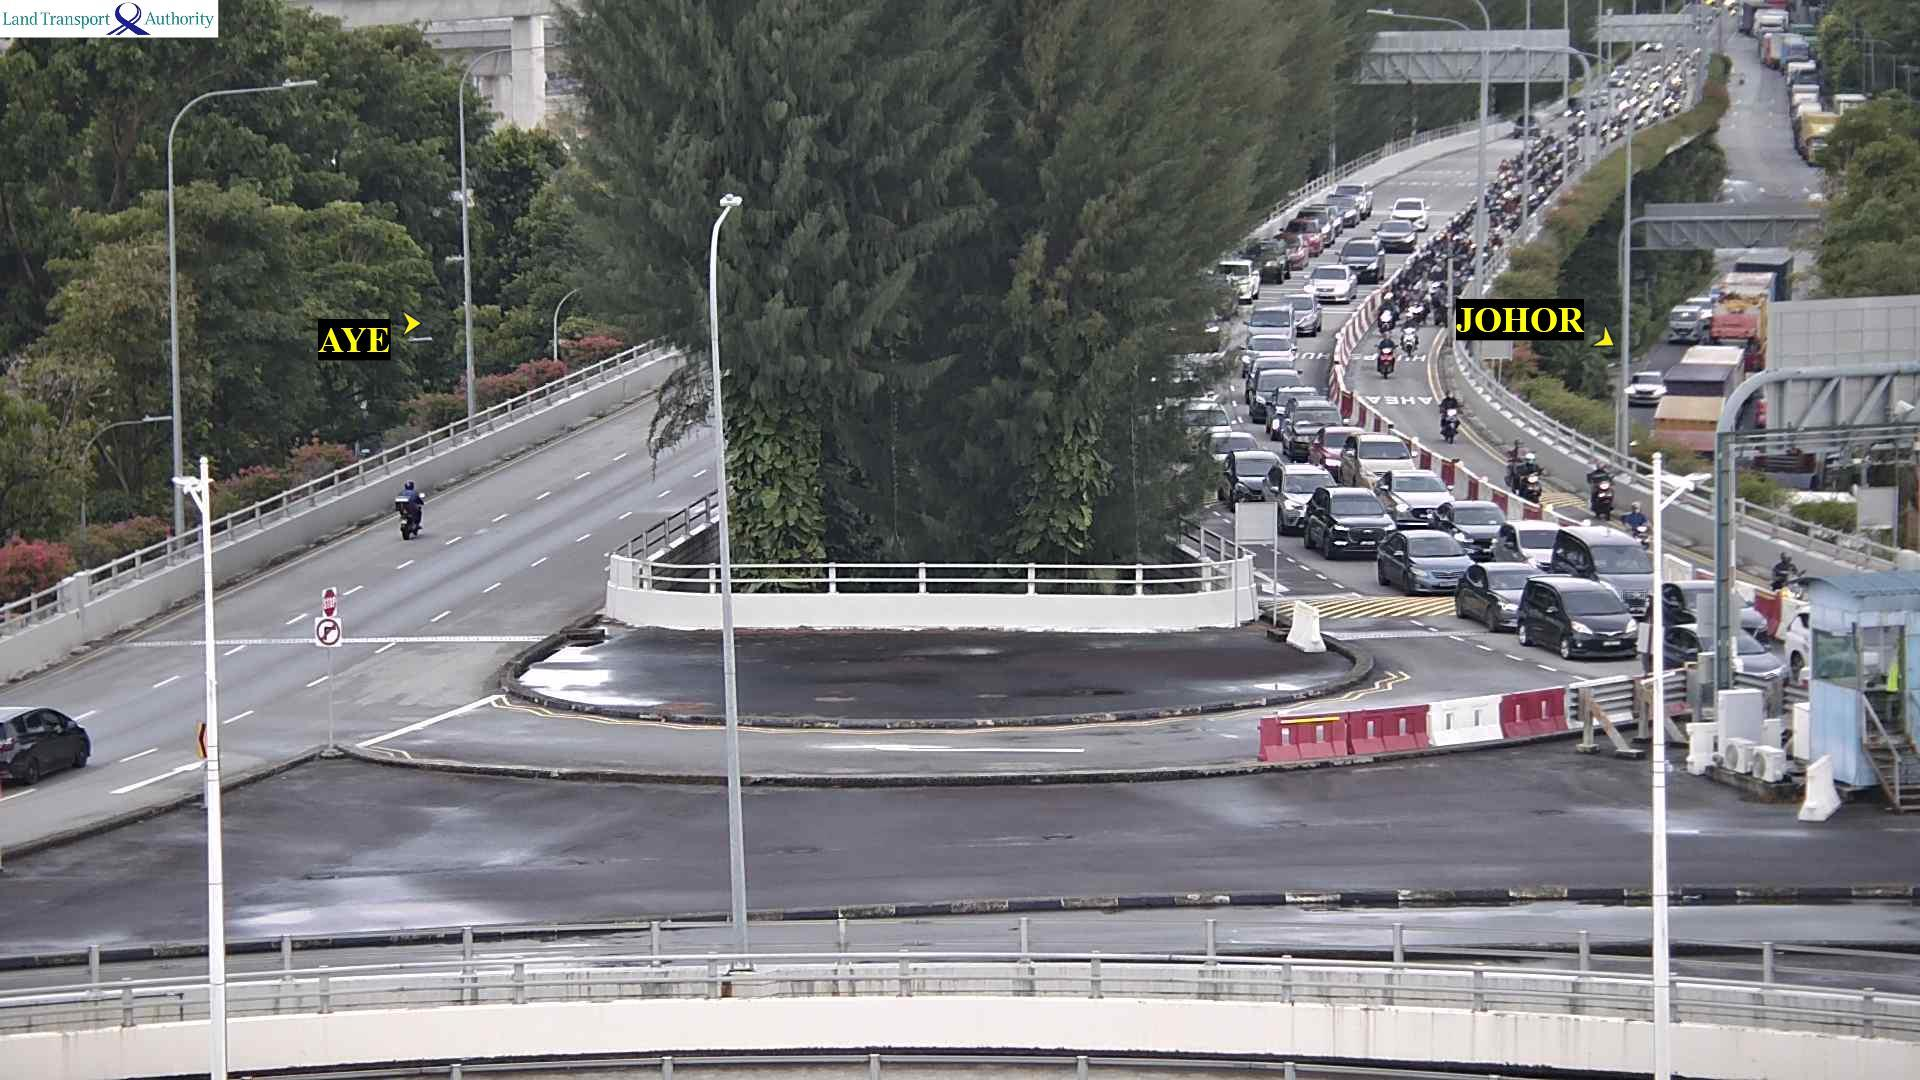vehicle-secondlink-johor: (1522, 576, 1651, 651), (1490, 521, 1663, 574), (1662, 580, 1784, 644), (1378, 531, 1484, 595), (1309, 491, 1406, 559), (1455, 564, 1551, 625), (1422, 502, 1511, 555), (1336, 435, 1423, 488), (1374, 471, 1452, 521), (1245, 291, 1324, 336), (1225, 450, 1294, 501), (1283, 401, 1346, 456), (1262, 467, 1341, 510), (1294, 265, 1362, 305), (1269, 389, 1323, 434), (1251, 369, 1302, 414), (1247, 359, 1295, 404), (1338, 239, 1383, 281), (1245, 336, 1295, 373), (1211, 261, 1258, 299), (1244, 241, 1286, 277), (1586, 462, 1613, 517), (1371, 220, 1416, 252), (1280, 219, 1321, 252), (1270, 233, 1307, 268), (1772, 553, 1805, 591), (1519, 454, 1543, 504), (1302, 207, 1335, 243), (1336, 183, 1370, 214), (1391, 199, 1428, 227), (1312, 200, 1344, 229), (1441, 390, 1460, 438), (1379, 334, 1396, 378), (1510, 440, 1524, 481), (1404, 313, 1419, 353), (1436, 281, 1449, 323), (1516, 113, 1540, 136), (1382, 295, 1394, 332), (1414, 284, 1424, 320), (1502, 189, 1513, 199), (1431, 264, 1440, 274), (1404, 261, 1412, 272), (1536, 186, 1544, 196), (1456, 269, 1461, 277)
vehicle-secondlink-singapore: (5, 704, 91, 793), (392, 481, 431, 541)
